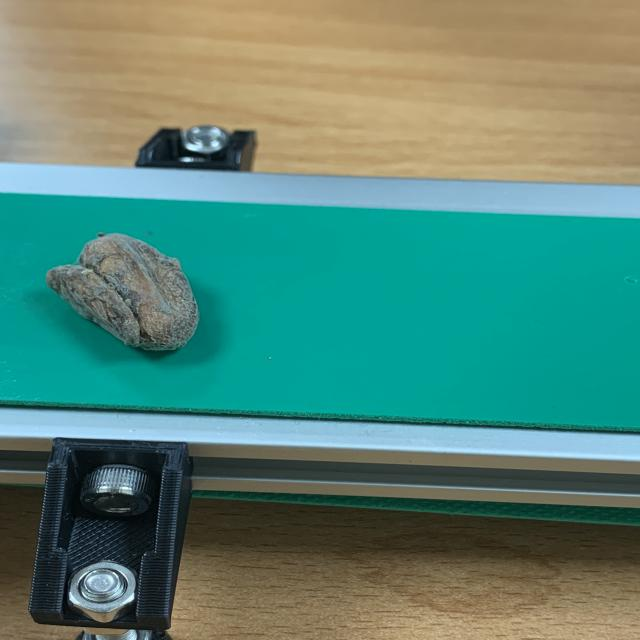Agglomerated_cocoabeans: (0, 217, 299, 391)
